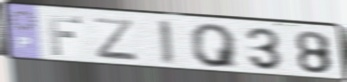3: (245, 27, 283, 72)
8: (294, 29, 334, 75)
F: (46, 14, 85, 57)
I: (156, 18, 176, 67)
Q: (188, 23, 241, 69)
Z: (91, 16, 141, 63)
